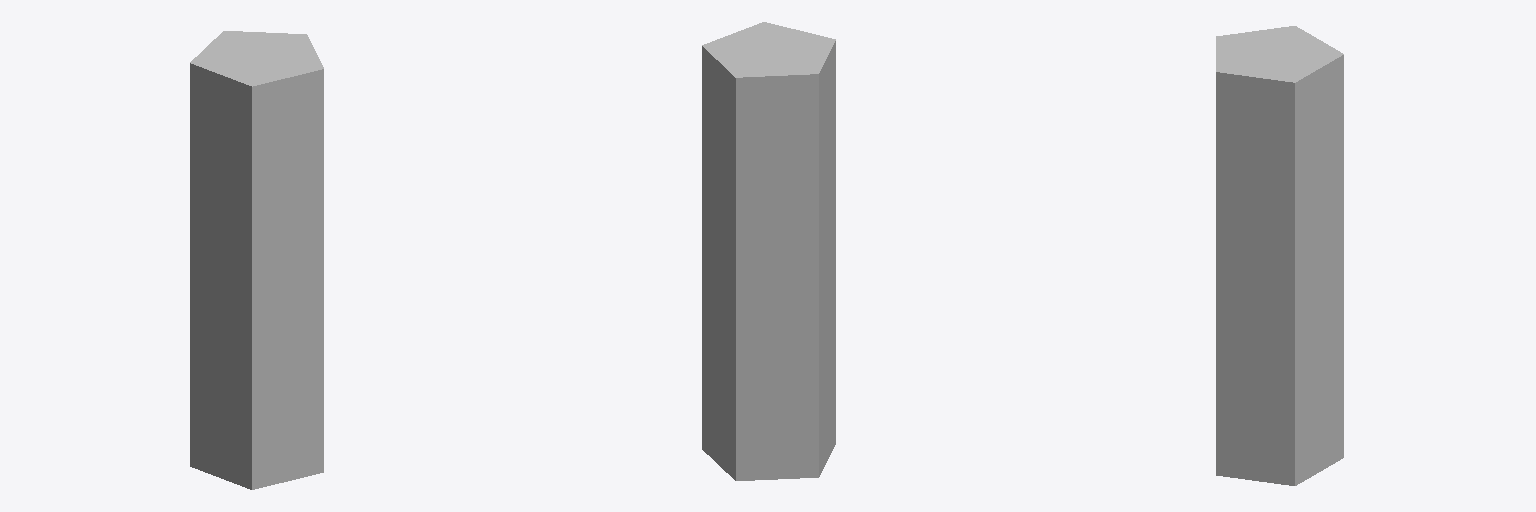
Rendered from bone.obj.
3 views of the same model, side by side, from view 1: azimuth 30°, elevation 25°; view 2: azimuth 150°, elevation 25°; view 3: azimuth 270°, elevation 25° (orthographic).
Size of the model in its own units: 0.6087 by 2 by 0.5789.